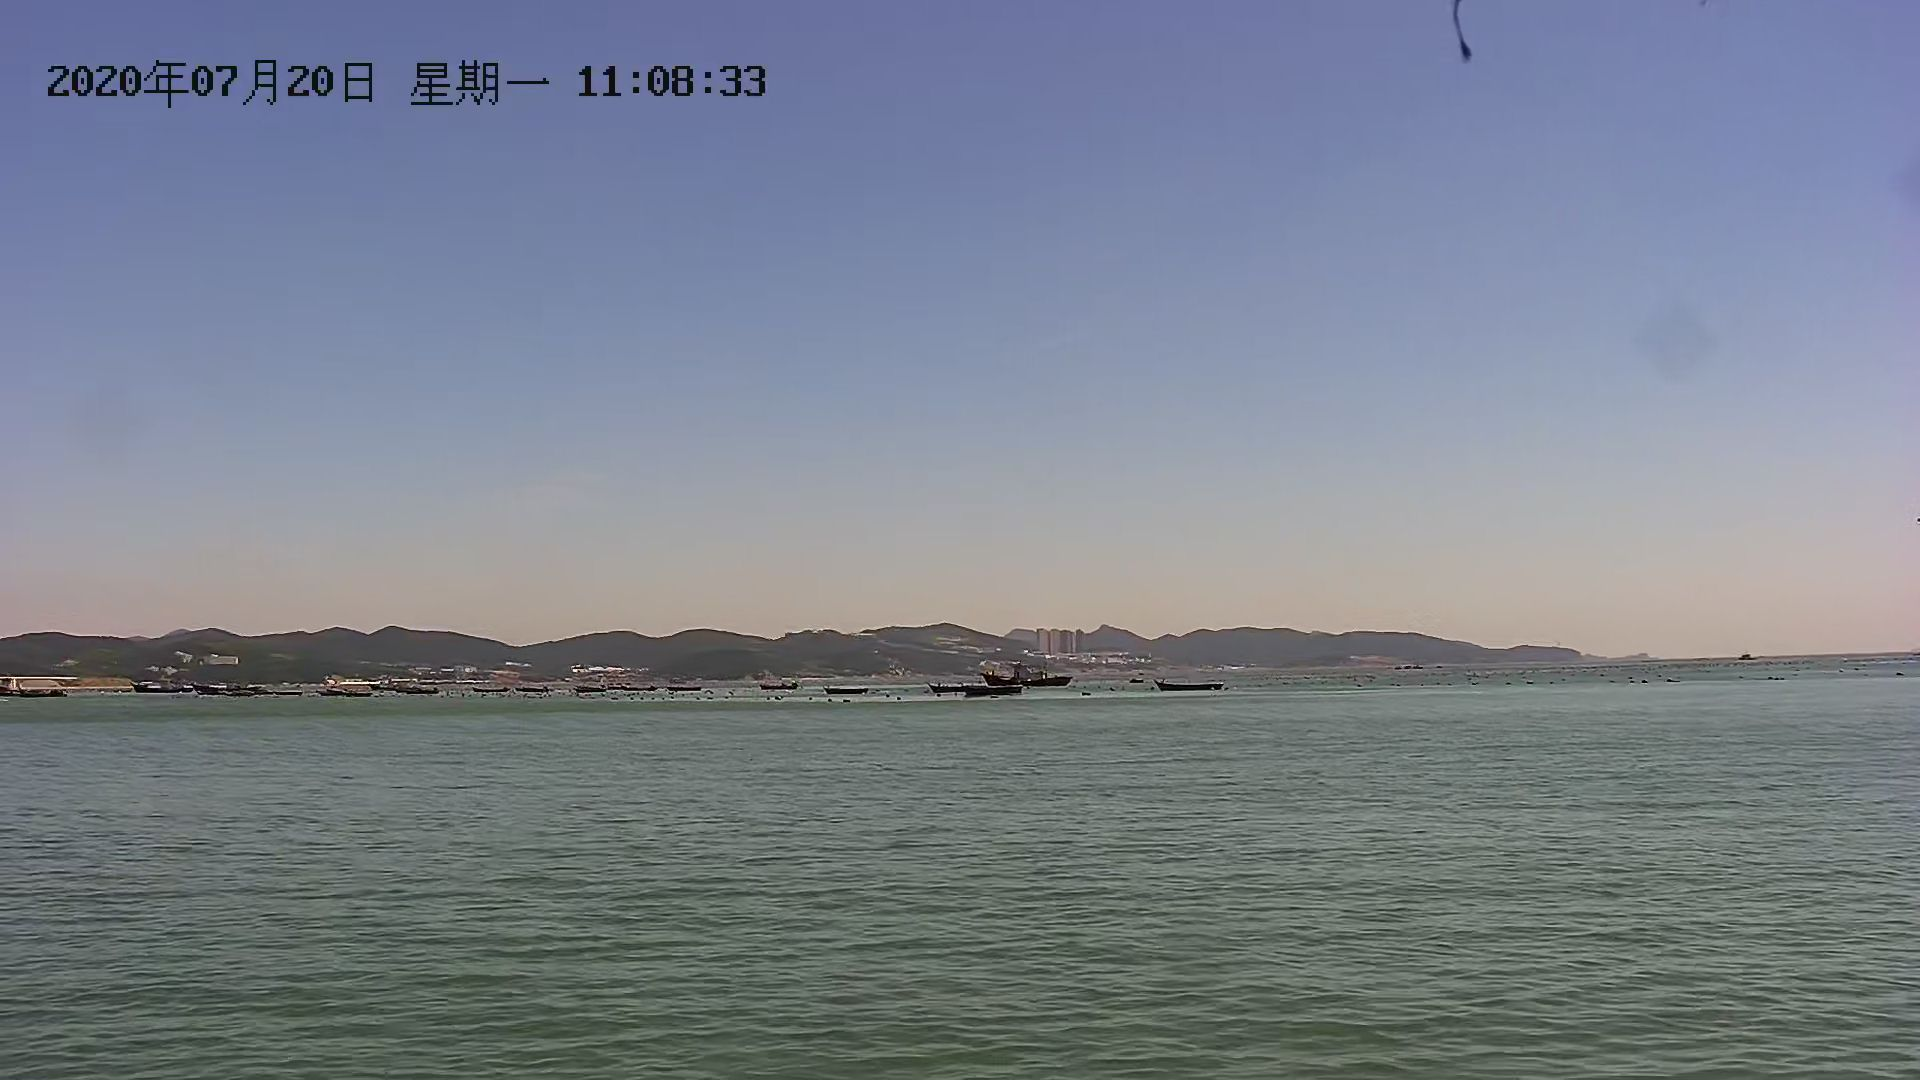boat: (930, 680, 1033, 702), (984, 665, 1073, 684), (1154, 680, 1233, 696)
